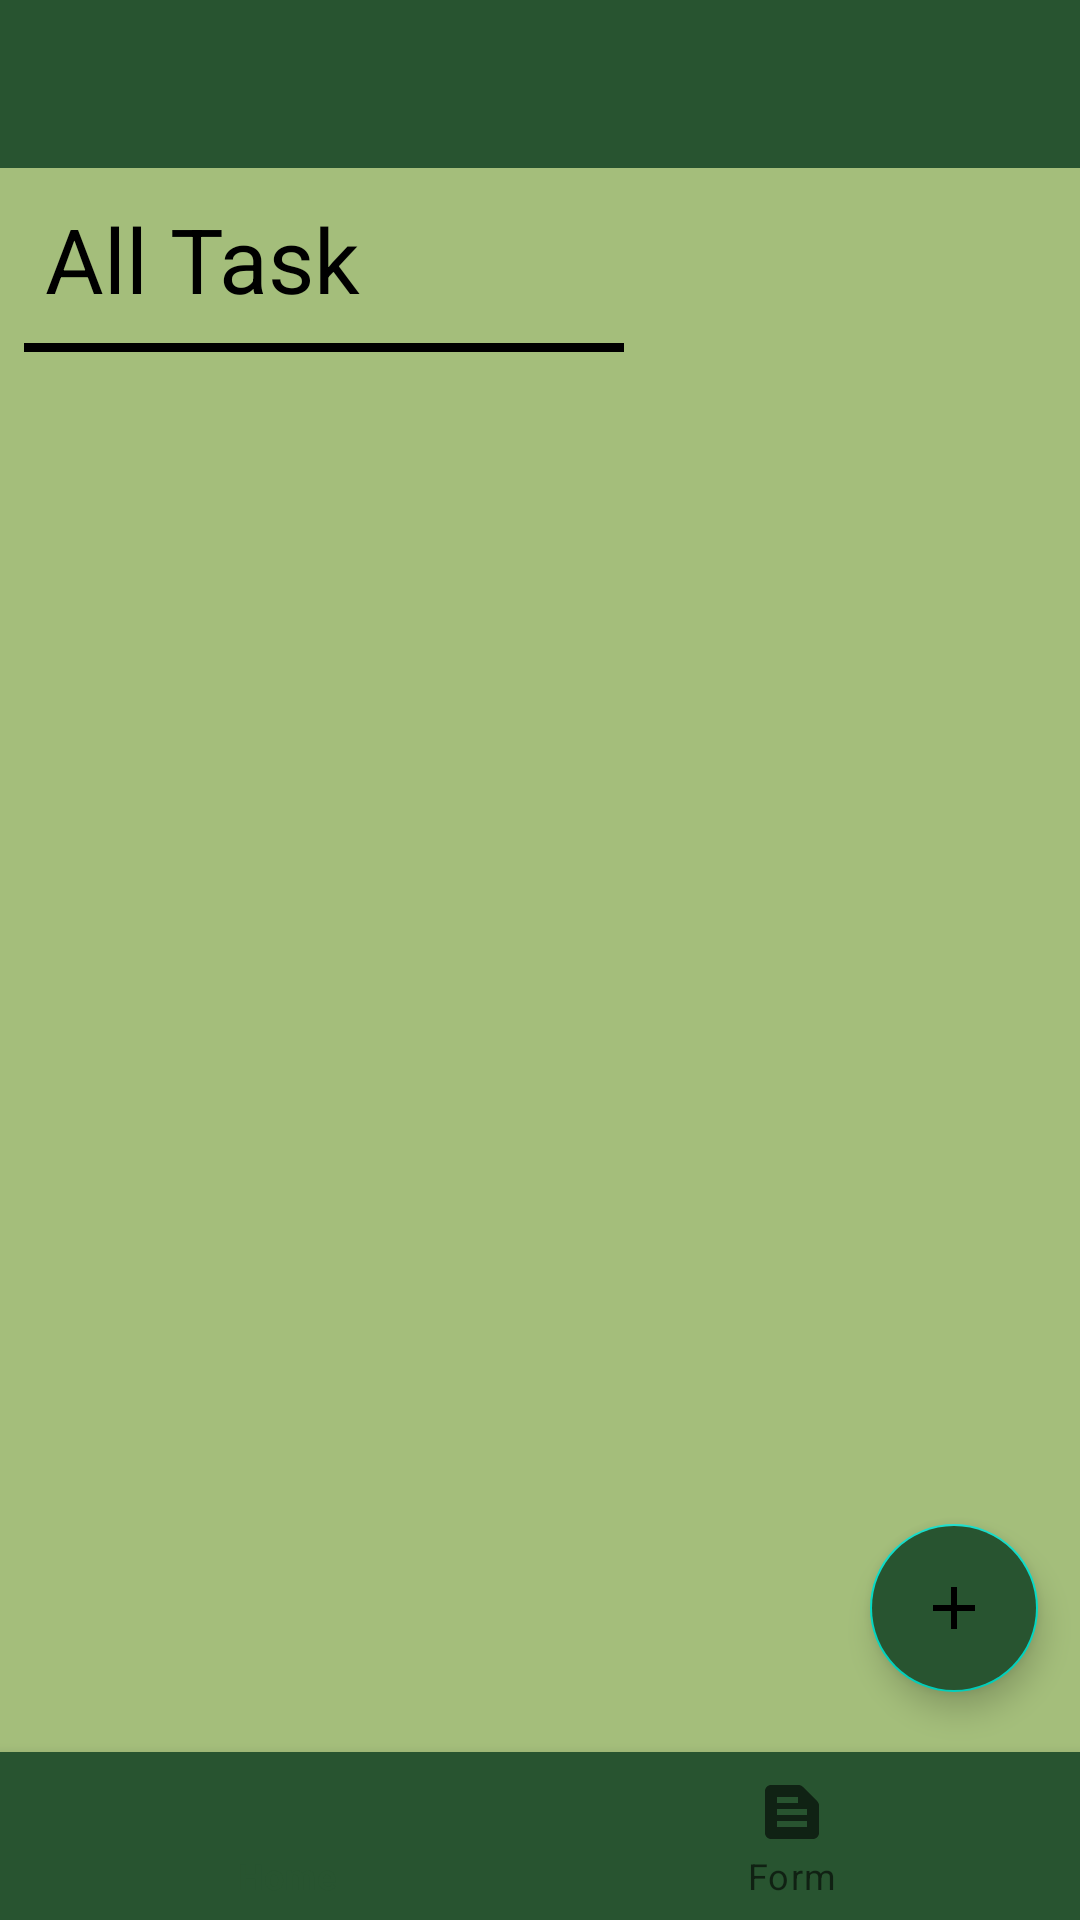

Icons on this 1080×1920 Android screen, each with its box as (x1, y1, x2, y2):
add: (870, 1524, 1038, 1692)
